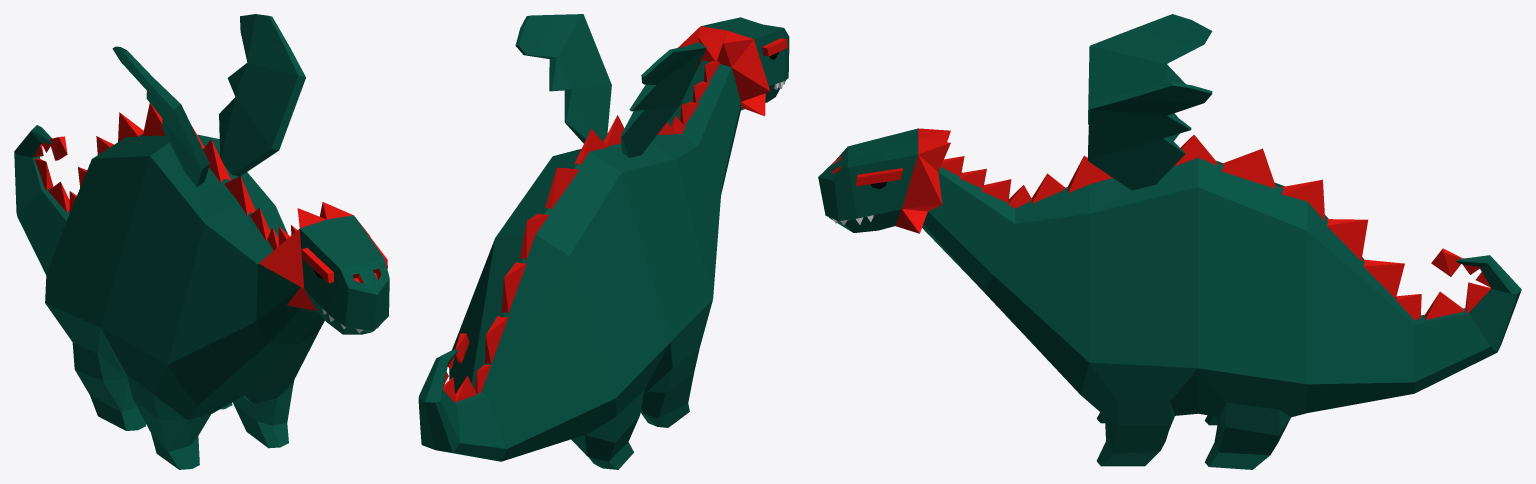
Rendered from Dragon_01.obj.
3 renders of one model, left to right at view 1: azimuth 30°, elevation 25°; view 2: azimuth 150°, elevation 25°; view 3: azimuth 270°, elevation 25°, orthographic.
Parts seen in each view (by area): view 1: Dragon_01_Cube.026; view 2: Dragon_01_Cube.026; view 3: Dragon_01_Cube.026.
Part boxes in pixels (x1,y1,x2,y2): Dragon_01_Cube.026: [14, 14, 389, 469]; Dragon_01_Cube.026: [418, 14, 789, 469]; Dragon_01_Cube.026: [818, 14, 1521, 469].
Size of the model in its own units: 8.81 by 19.87 by 32.23.
